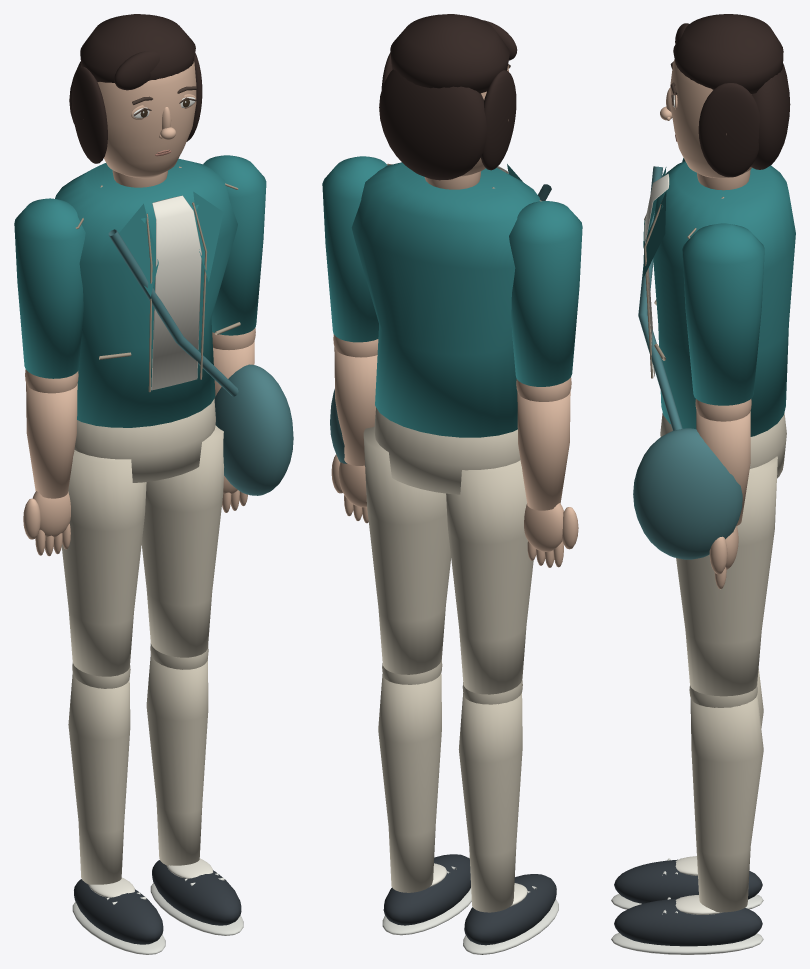
The model's file is npc_woman.glb.
The picture shows the model from 3 angles, left to right: view 1: azimuth 30°, elevation 25°; view 2: azimuth 150°, elevation 25°; view 3: azimuth 270°, elevation 25°; orthographic projection. The views are drawn at different scales.
Parts seen in each view (by area): view 1: Torso_civilian_clothes, trouser thigh, trouser thigh.001, LowerLeg_R_pants, LowerLeg_L_pants, sleeve, Head_hair, LowerArm_L_skin, crossbody bag, visible inner tee, Head_skin, sleeve.001 (+8 smaller); view 2: Torso_civilian_clothes, Head_hair, trouser thigh, trouser thigh.001, LowerLeg_L_pants, LowerLeg_R_pants, sleeve, LowerArm_L_skin, sleeve.001, trouser waist, LowerArm_R_skin, sneaker upper (+5 smaller); view 3: Torso_civilian_clothes, Head_hair, trouser thigh.001, LowerLeg_R_pants, sleeve.001, crossbody bag, sneaker upper.001, LowerArm_R_skin, Head_skin, sneaker upper, crossbody strap, trouser waist (+6 smaller).
Part boxes in pixels (x1,y1,x2,y2): Torso_civilian_clothes: (55, 158, 237, 427); trouser thigh: (61, 450, 146, 676); trouser thigh.001: (141, 425, 223, 657); LowerLeg_R_pants: (146, 643, 208, 865); LowerLeg_L_pants: (68, 663, 130, 884); sleeve: (14, 198, 85, 378); Head_hair: (69, 14, 202, 163); LowerArm_L_skin: (23, 369, 78, 556); crossbody bag: (214, 364, 293, 495); visible inner tee: (151, 195, 201, 390); Head_skin: (97, 61, 196, 178); sleeve.001: (203, 155, 266, 335); Torso_civilian_clothes: (351, 162, 540, 437); Head_hair: (379, 14, 517, 180); trouser thigh: (446, 460, 533, 694); trouser thigh.001: (363, 426, 451, 674); LowerLeg_L_pants: (458, 680, 522, 912); LowerLeg_R_pants: (378, 660, 442, 892); sleeve: (509, 201, 582, 386); LowerArm_L_skin: (516, 377, 578, 567); sleeve.001: (322, 156, 387, 342); trouser waist: (374, 407, 520, 494); LowerArm_R_skin: (331, 334, 378, 523); sneaker upper: (464, 874, 556, 945); Torso_civilian_clothes: (643, 161, 795, 436); Head_hair: (673, 14, 790, 177); trouser thigh.001: (676, 456, 777, 696); LowerLeg_R_pants: (689, 685, 763, 912); sleeve.001: (682, 223, 764, 405); crossbody bag: (633, 428, 742, 559); sneaker upper.001: (614, 898, 762, 946); LowerArm_R_skin: (695, 399, 751, 589); Head_skin: (660, 59, 752, 178); sneaker upper: (614, 859, 762, 903); crossbody strap: (638, 166, 682, 430); trouser waist: (660, 412, 786, 478).
Bounding box in the file's own units: 0.4766 × 1.64 × 0.3036.
